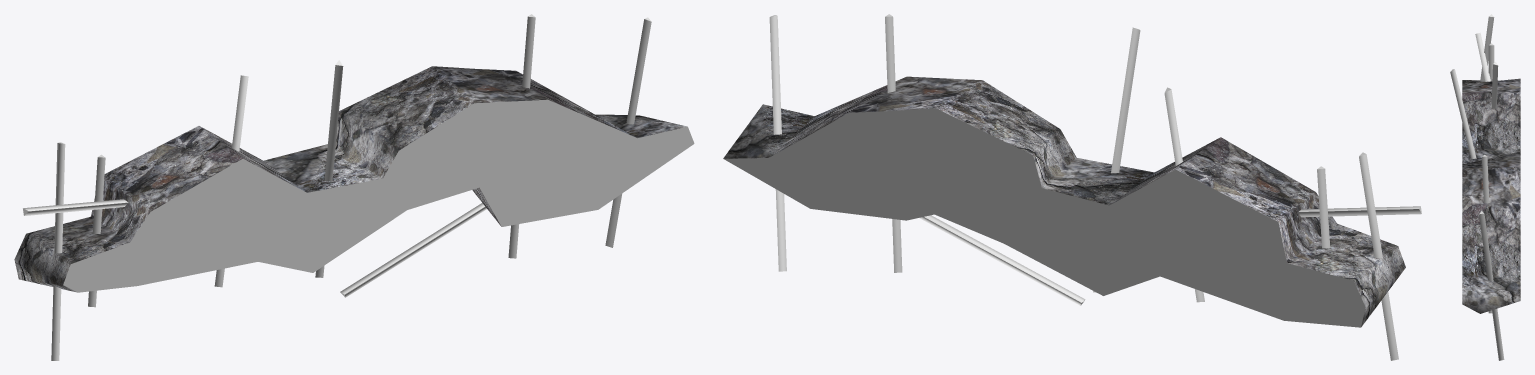
Rendered from Debris1_LOD2.fbx.
3 views of the same model, side by side, from view 1: azimuth 30°, elevation 25°; view 2: azimuth 150°, elevation 25°; view 3: azimuth 270°, elevation 25° (orthographic). The views are drawn at different scales.
Visible parts, largest first — view 1: polySurface1262; view 2: polySurface1262; view 3: polySurface1262.
Boxes of the visible parts, x1,y1,x2,y2 form: polySurface1262: (14, 14, 694, 360); polySurface1262: (723, 14, 1421, 360); polySurface1262: (1450, 14, 1520, 360).
Size of the model in its own units: 3.11 by 1.29 by 0.4322.
